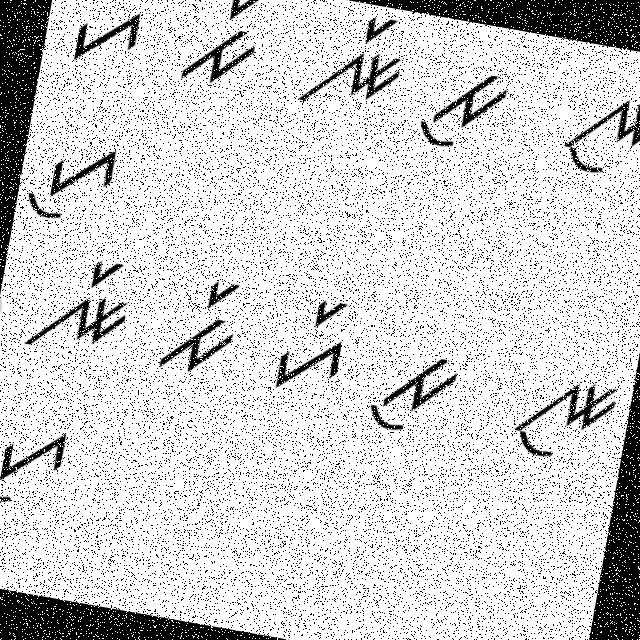har: (266, 288, 362, 400), (63, 0, 160, 77)
haw: (19, 128, 138, 238), (0, 409, 79, 522)
mbar: (155, 266, 259, 388), (171, 0, 275, 97)
mbaw: (406, 48, 516, 166), (357, 332, 466, 447)
ndar: (287, 0, 416, 131), (17, 240, 146, 366)
ndaw: (498, 365, 622, 474), (552, 74, 639, 192)
